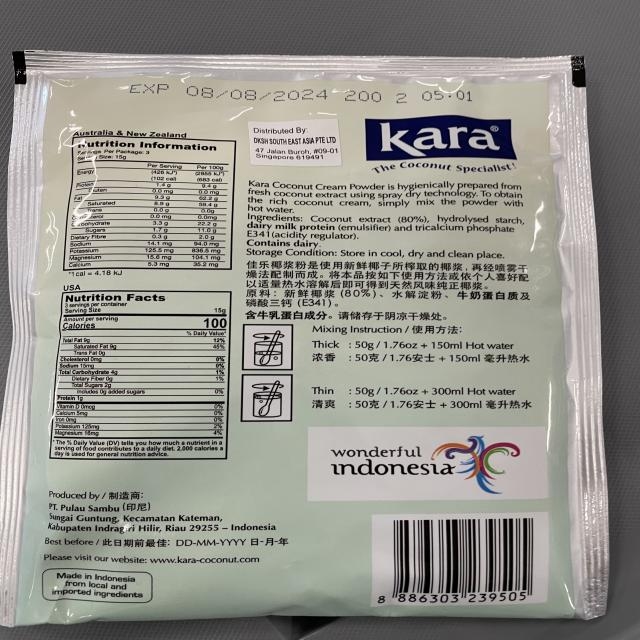object_name: (21, 56, 591, 618)
